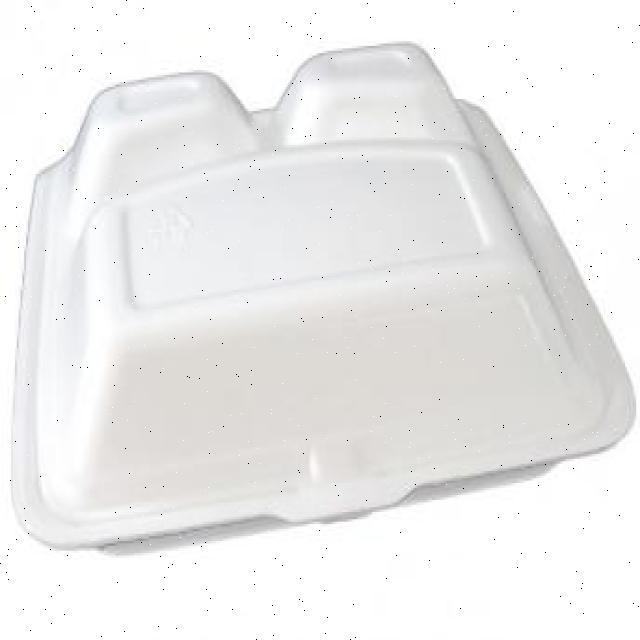styrofoam: (8, 37, 636, 556)
